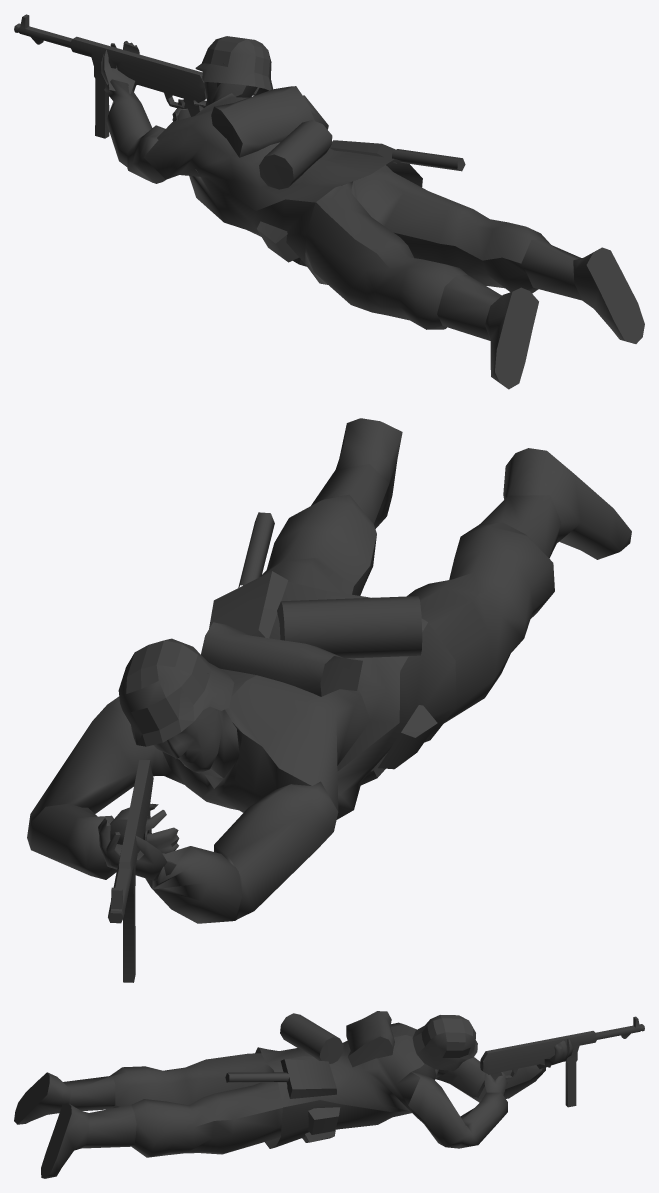
Rendered from de_mp_prono.glb.
3 views of the same model, one above another, from view 1: azimuth 30°, elevation 25°; view 2: azimuth 150°, elevation 25°; view 3: azimuth 270°, elevation 25° (orthographic). The views are drawn at different scales.
Parts seen in each view (by area): view 1: polySurface28.001_2; view 2: polySurface28.001_2; view 3: polySurface28.001_2.
Part boxes in pixels (bbox=[...]): polySurface28.001_2: bbox=[14, 14, 644, 389]; polySurface28.001_2: bbox=[27, 418, 631, 982]; polySurface28.001_2: bbox=[14, 1011, 644, 1178].
Size of the model in its own units: 0.2472 by 0.1494 by 0.6964.
1 material, 1 textured.
